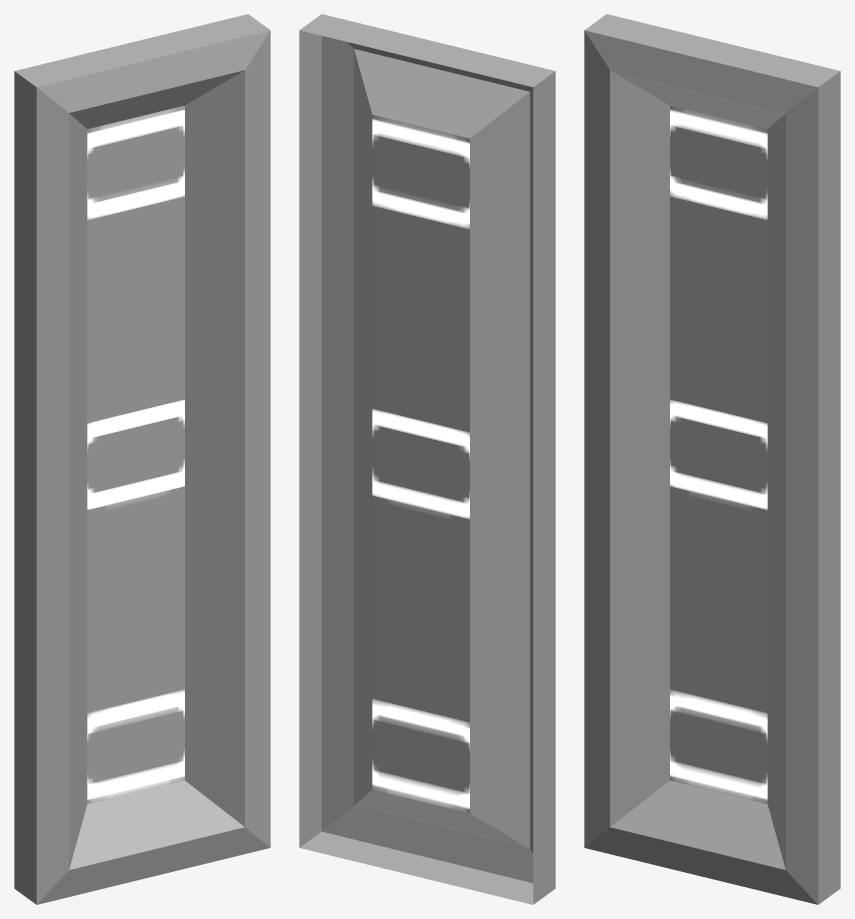
File: KF_SM_Panel3.fbx
3 views of the same model, side by side, from view 1: azimuth 30°, elevation 25°; view 2: azimuth 150°, elevation 25°; view 3: azimuth 330°, elevation 25° (orthographic).
Visible parts, largest first — view 1: KF_SM_Panel3; view 2: KF_SM_Panel3; view 3: KF_SM_Panel3.
Part boxes in pixels (x1,y1,x2,y2): KF_SM_Panel3: (14,14,270,904); KF_SM_Panel3: (299,14,555,904); KF_SM_Panel3: (584,14,840,904).
Size of the model in its own units: 46.08 by 154 by 8.77.
